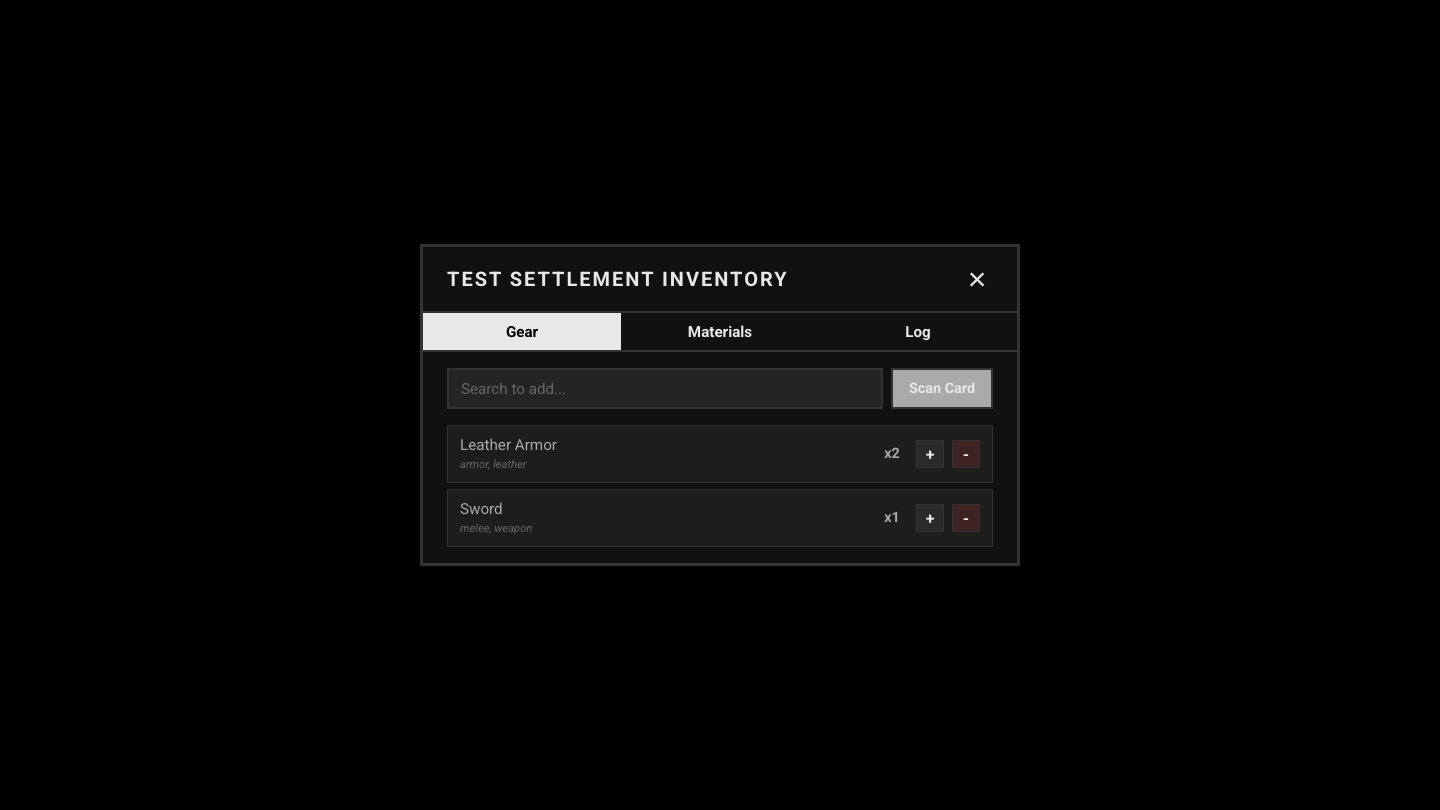
it: InventoryModal › Settlement Log tab › shows empty state message when log is empty
Click the button "Log": coordinates (918, 332) [819,313,1017,350]
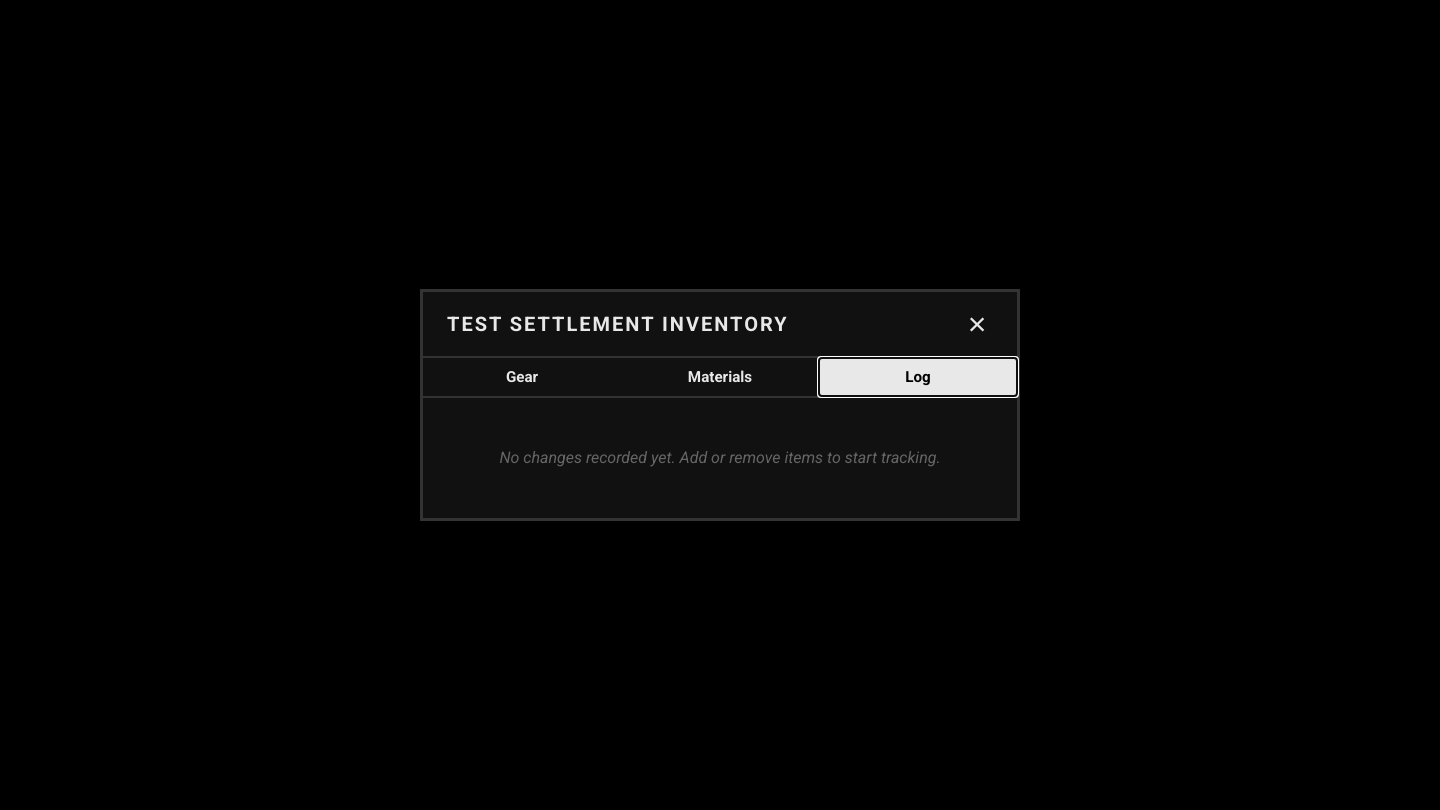
Expected: the text "No changes recorded" is shown, [500,448,940,467]
